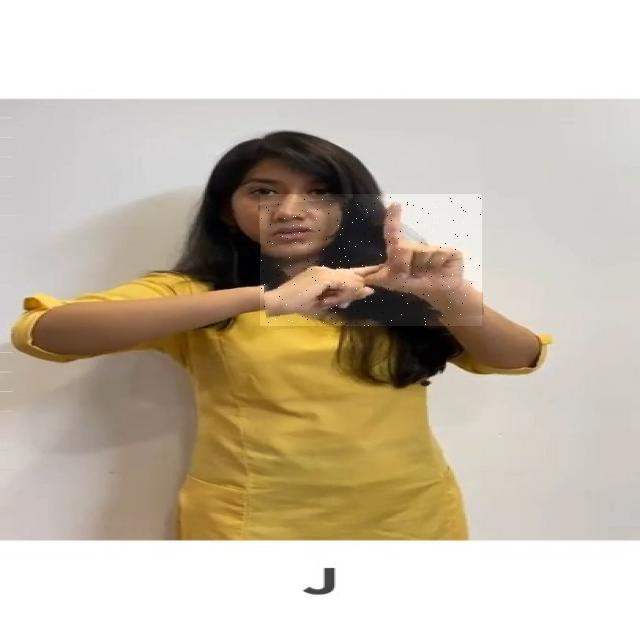J: (260, 194, 482, 326)
